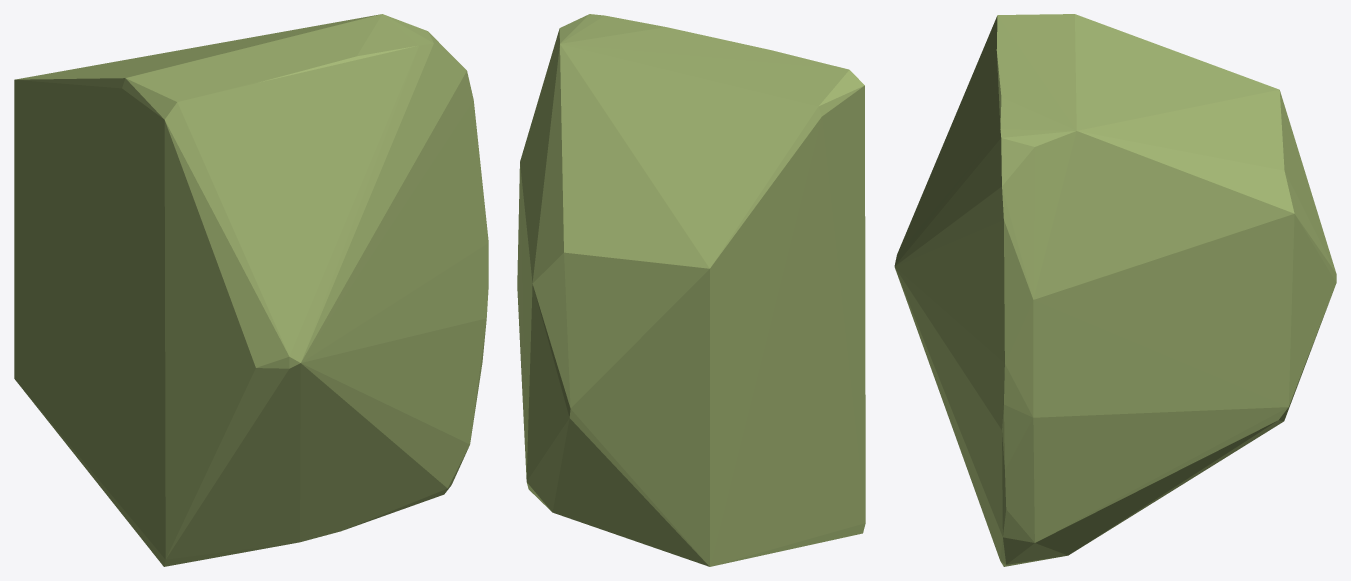
File: sanitary_sink_wallMounted_a01.glb
The picture shows the model from 3 angles, left to right: view 1: azimuth 30°, elevation 25°; view 2: azimuth 150°, elevation 25°; view 3: azimuth 270°, elevation 25°; orthographic projection. The views are drawn at different scales.
Parts seen in each view (by area): view 1: geometry_0; view 2: geometry_0; view 3: geometry_0.
Boxes of the visible parts, x1,y1,x2,y2 form: geometry_0: [14, 14, 488, 566]; geometry_0: [517, 14, 865, 566]; geometry_0: [894, 14, 1336, 566].
Bounding box in the file's own units: 0.3516 × 0.4799 × 0.4389.
